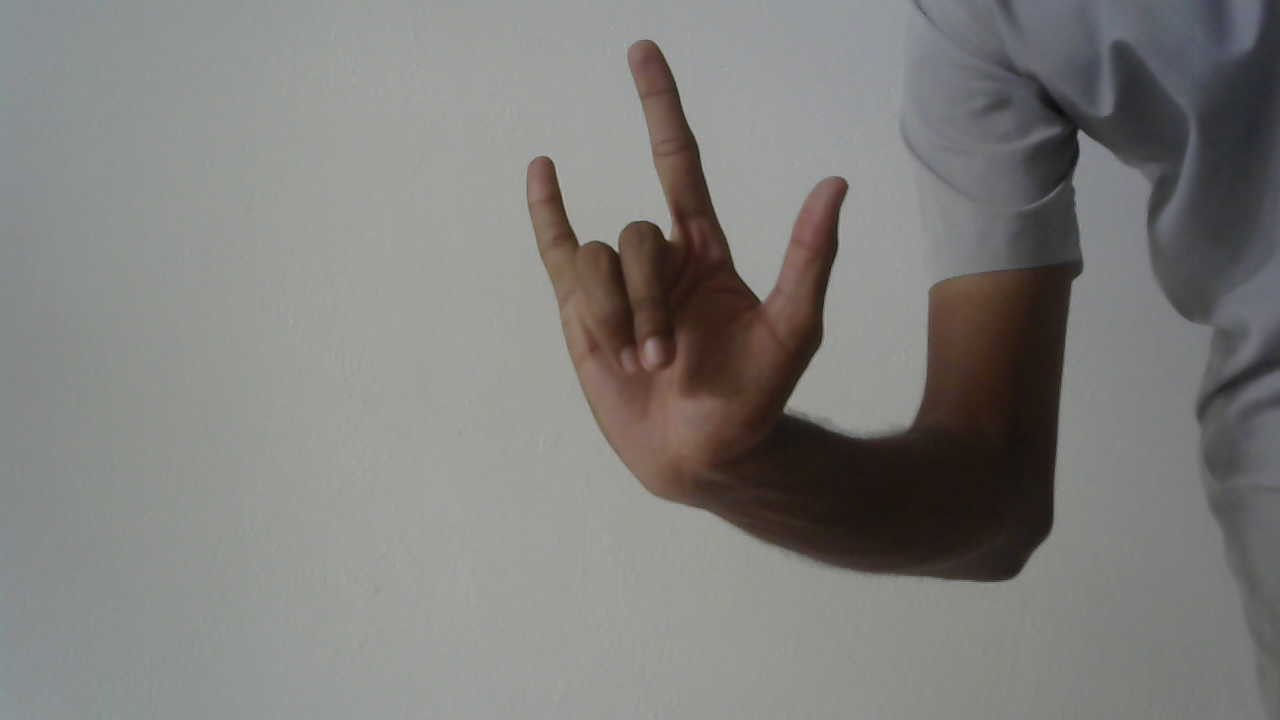iloveyou: (515, 35, 856, 506)
